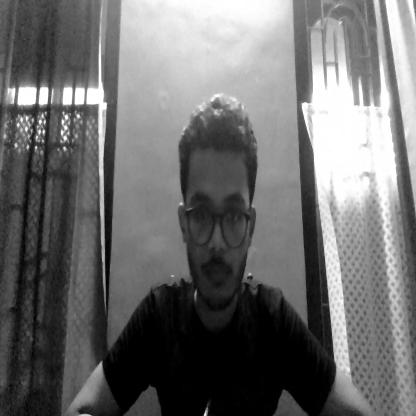Normal: (178, 92, 258, 309)
